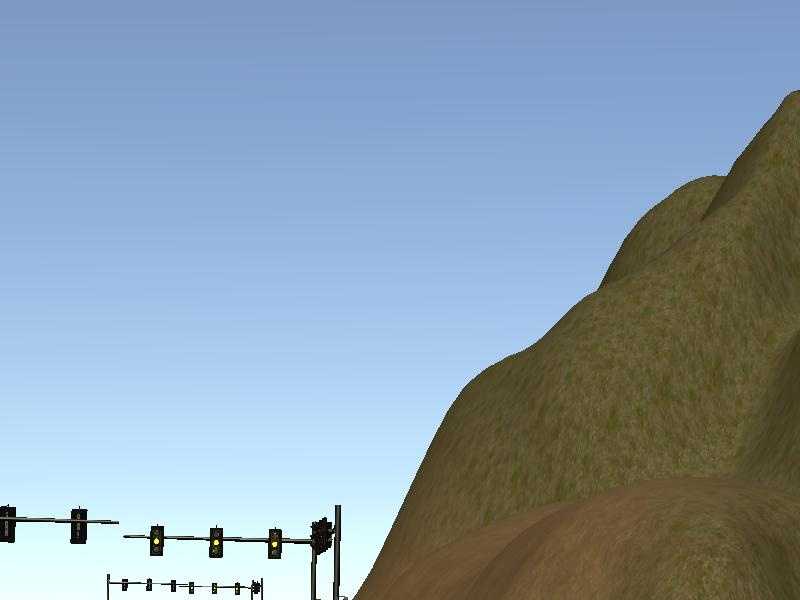yellow: (206, 526, 227, 562), (265, 526, 284, 562), (148, 523, 162, 556)
